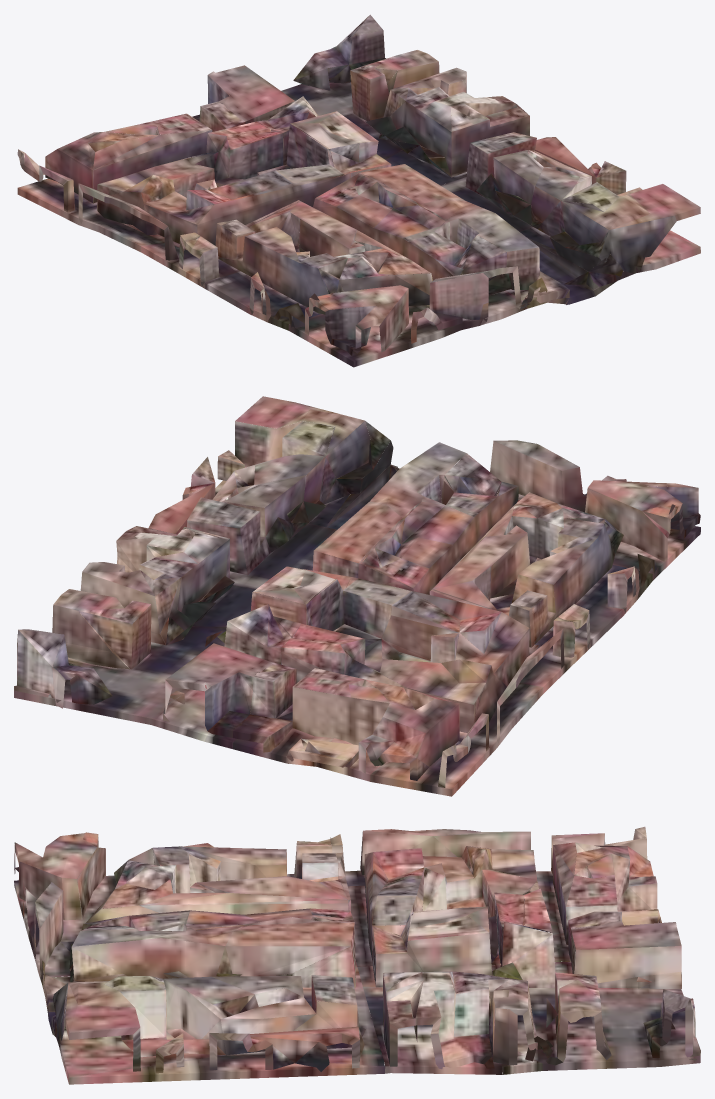
3 renders of one model, top to bottom at view 1: azimuth 30°, elevation 25°; view 2: azimuth 150°, elevation 25°; view 3: azimuth 270°, elevation 25°, orthographic. The views are drawn at different scales.
Parts seen in each view (by area): view 1: Mesh_0; view 2: Mesh_0; view 3: Mesh_0.
Boxes of the visible parts, left/top/right/bottom form: Mesh_0: left=17, top=14, right=700, bottom=367; Mesh_0: left=14, top=396, right=700, bottom=796; Mesh_0: left=14, top=826, right=700, bottom=1084.
Bounding box in the file's own units: 269 × 47.27 × 330.
Materials: 2 (2 with a texture image).
